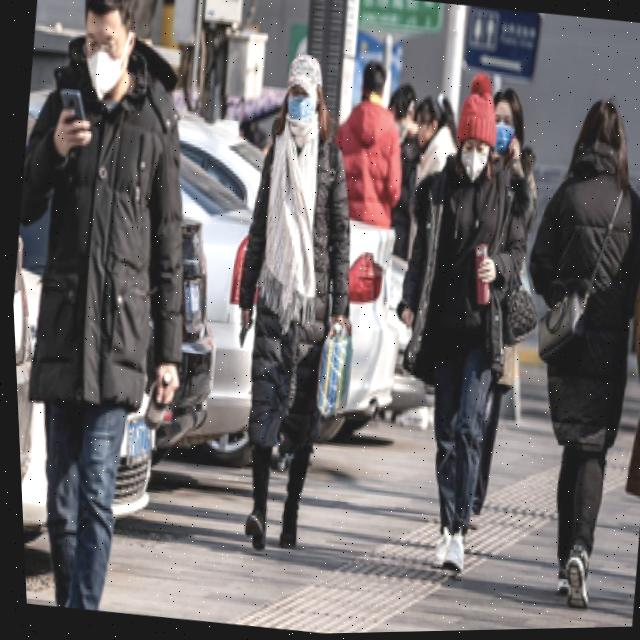Mask: (77, 36, 140, 100), (284, 91, 322, 126), (457, 148, 489, 181), (490, 123, 517, 156)
